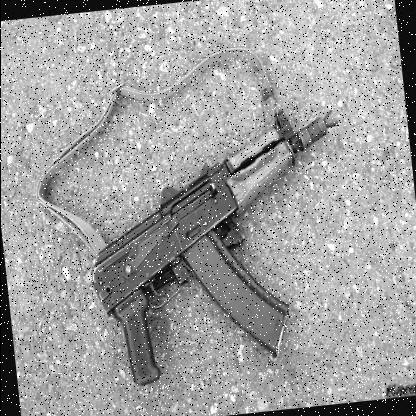rifle: (61, 67, 364, 397)
